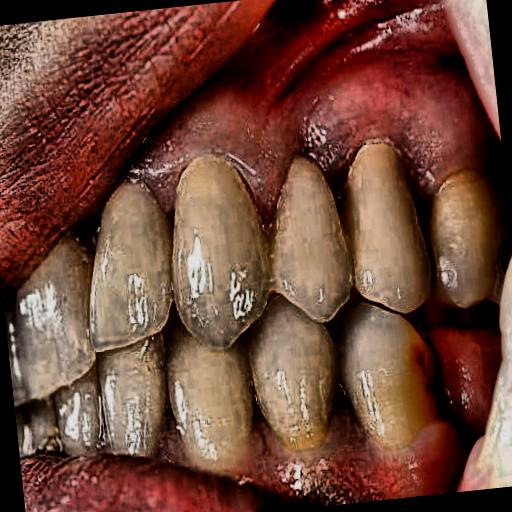Gingivitis: (122, 52, 496, 218)
